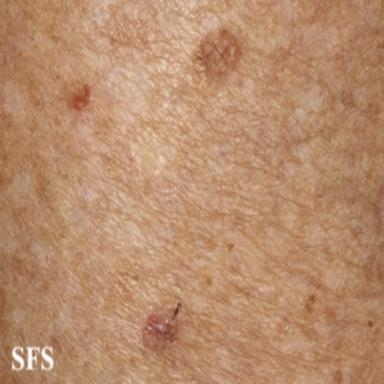Porokeratosis: (195, 29, 241, 80), (143, 311, 177, 349), (69, 84, 91, 112)
